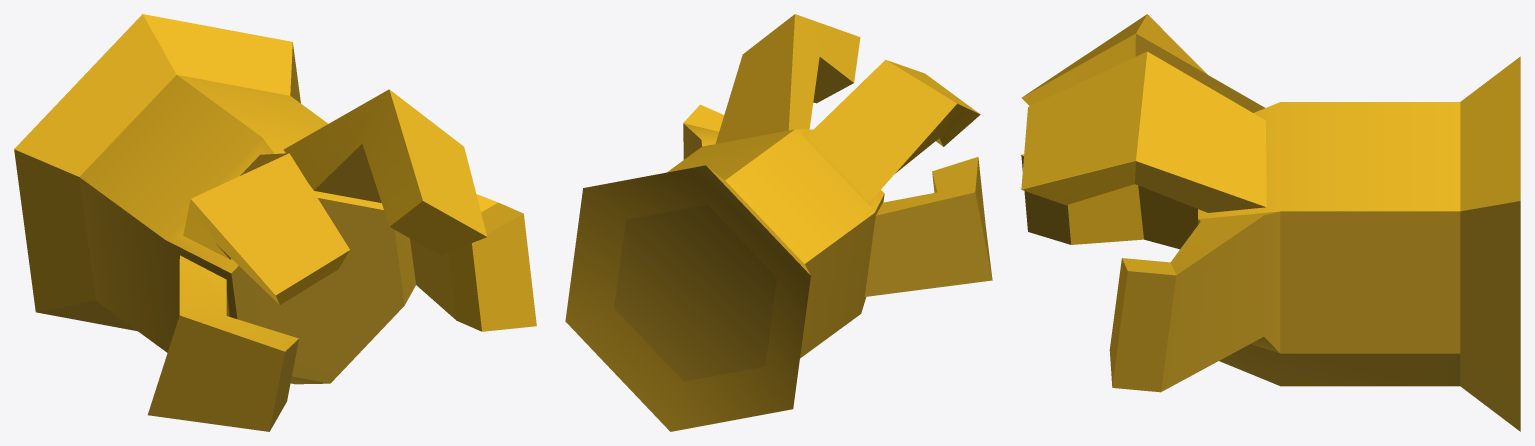
File: Luva_Direita.fbx
The picture shows the model from 3 angles, left to right: view 1: azimuth 30°, elevation 25°; view 2: azimuth 150°, elevation 25°; view 3: azimuth 270°, elevation 25°; orthographic projection. The views are drawn at different scales.
Parts seen in each view (by area): view 1: Cylinder.003; view 2: Cylinder.003; view 3: Cylinder.003.
Boxes of the visible parts, x1,y1,x2,y2 form: Cylinder.003: (14, 14, 536, 431); Cylinder.003: (565, 14, 992, 431); Cylinder.003: (1021, 14, 1520, 431).
Size of the model in its own units: 231 by 222 by 255.
1 material, 1 textured.
